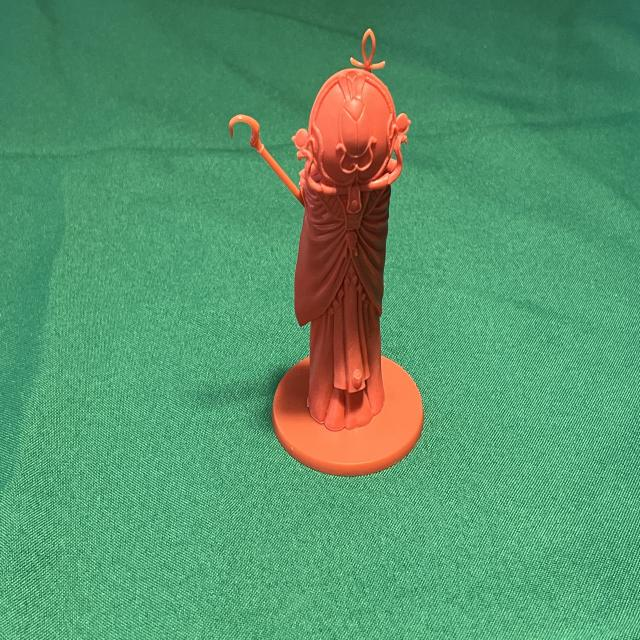amon: (227, 22, 428, 482)
